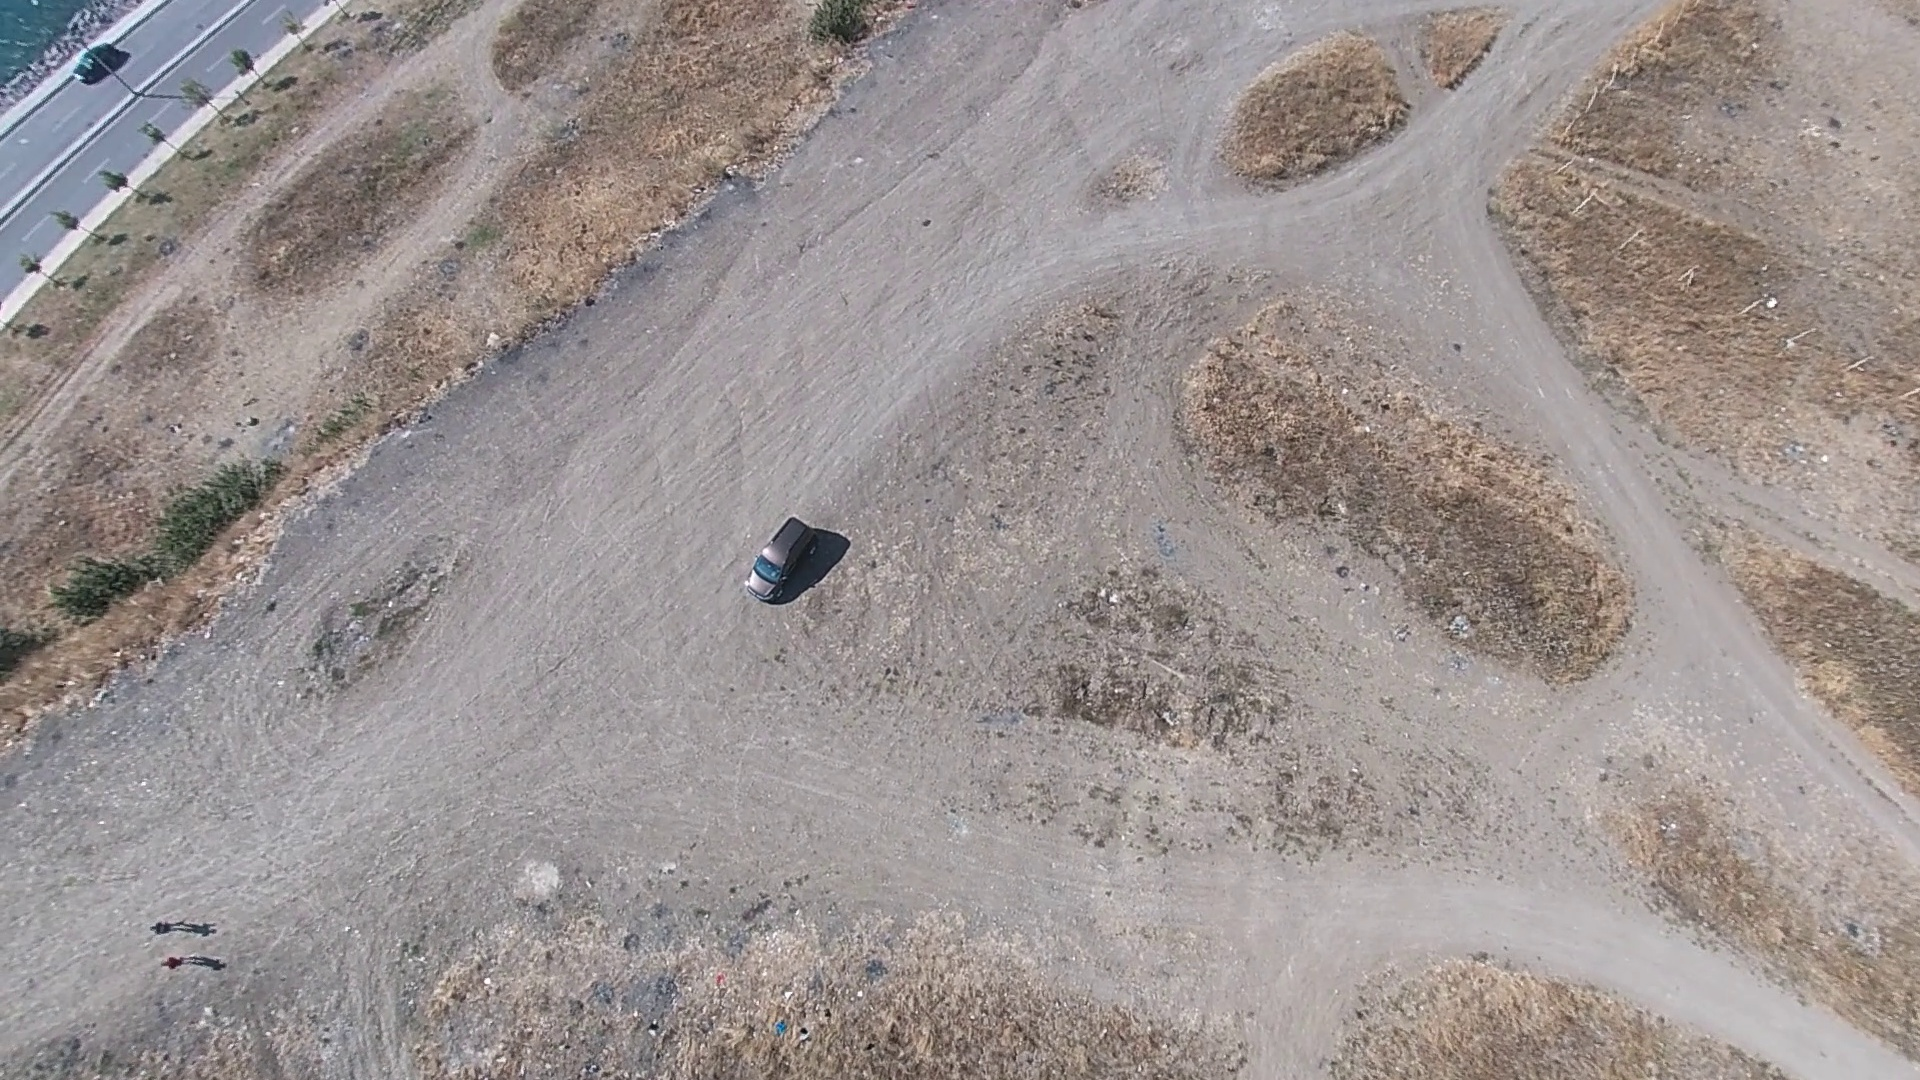araba: (744, 510, 825, 607), (69, 36, 120, 88)
insan: (151, 919, 186, 936), (149, 958, 184, 971)
